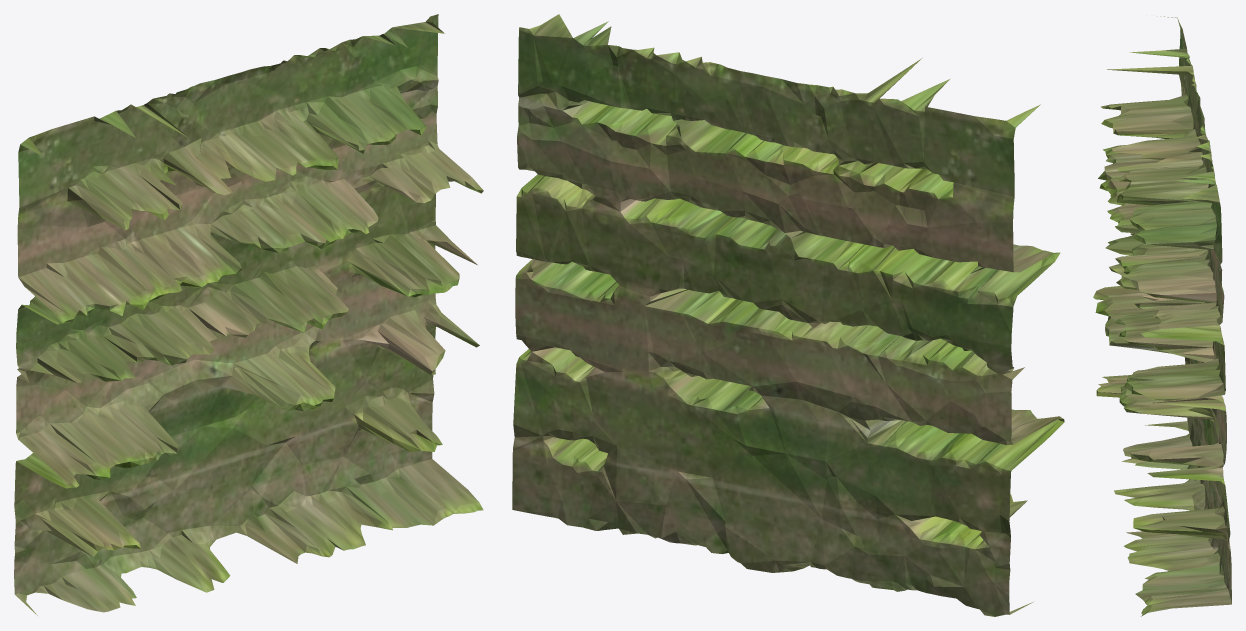
Rendered from map_200_60.obj.
3 views of the same model, side by side, from view 1: azimuth 30°, elevation 25°; view 2: azimuth 150°, elevation 25°; view 3: azimuth 270°, elevation 25° (orthographic). The views are drawn at different scales.
Visible parts, largest first — view 1: grp1; view 2: grp1; view 3: grp1.
Part boxes in pixels (<box>): grp1: <box>14,14,483,615</box>; grp1: <box>512,14,1064,616</box>; grp1: <box>1093,16,1231,616</box>.
Bounding box in the file's own units: 10 × 10 × 3.06.
Materials: 1 (1 with a texture image).
